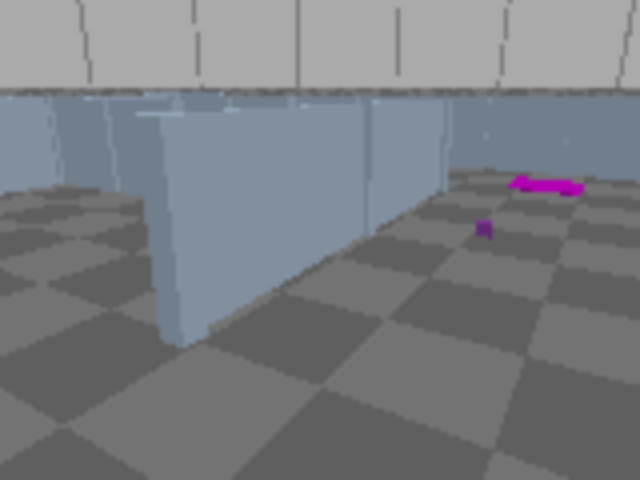goal_zone: (506, 177, 585, 196)
puck: (476, 221, 492, 238)
